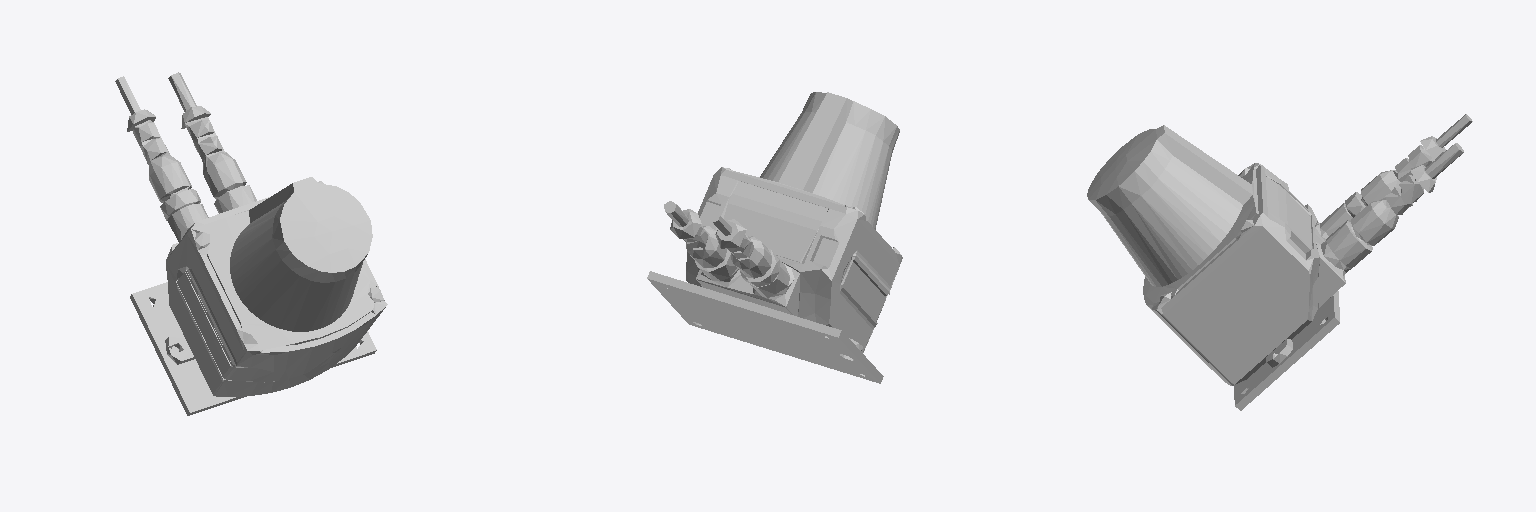
The model's file is sick_tim551.obj.
3 renders of one model, left to right at view 1: azimuth 30°, elevation 25°; view 2: azimuth 150°, elevation 25°; view 3: azimuth 270°, elevation 25°, orthographic.
Parts seen in each view (by area): view 1: sick_tim551; view 2: sick_tim551; view 3: sick_tim551.
Part boxes in pixels (left/top/right/bottom): sick_tim551: left=115, top=72, right=387, bottom=415; sick_tim551: left=647, top=92, right=902, bottom=383; sick_tim551: left=1087, top=114, right=1472, bottom=410.
Size of the model in its own units: 0.0832 by 0.0982 by 0.1408.